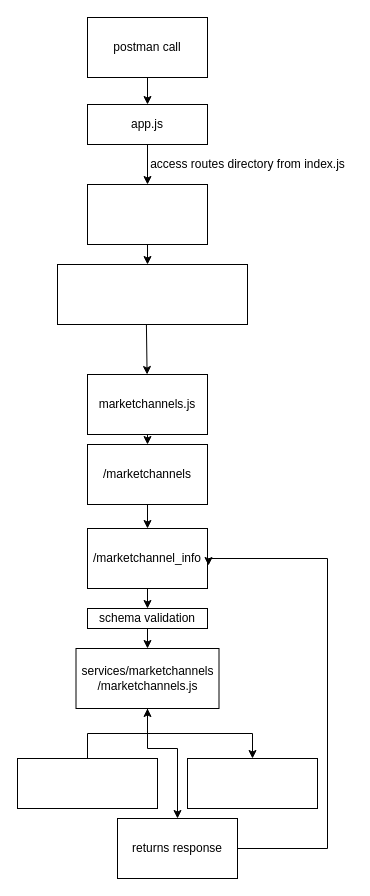
Image size: 370x896. Some labels were removed from this diagram. The centre of each missing label's shape, as x and y in pixels:
/api/v2/marketplace_management: the point at 152,294
models/Marketchannels.js: the point at 87,783
Routes: the point at 147,214
specific marketchannel data based on channel id: the point at 252,783
